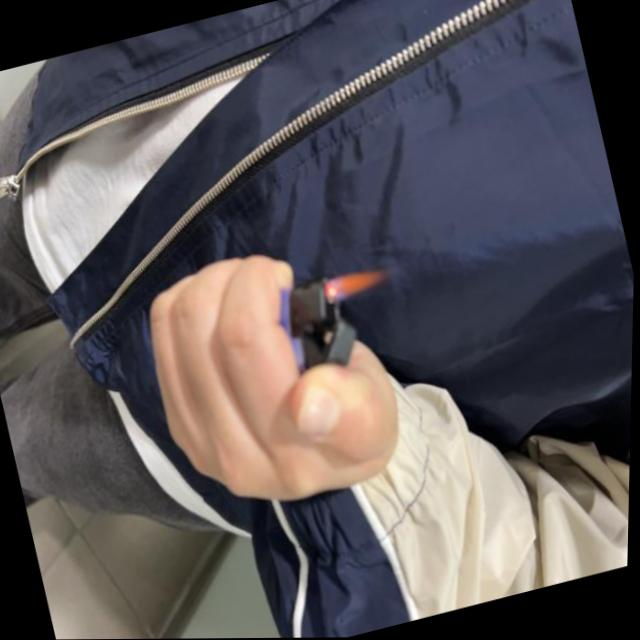Fire: (320, 262, 396, 301)
